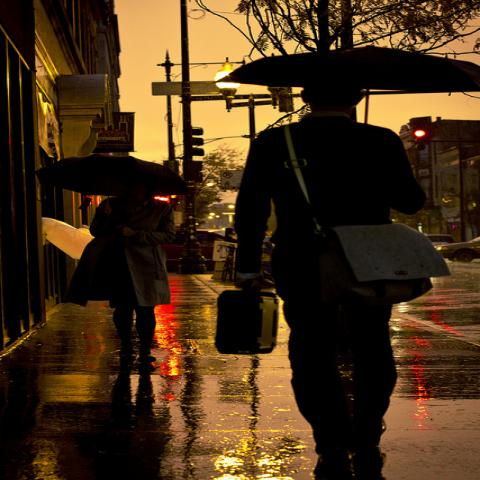car: (161, 226, 238, 264), (433, 235, 479, 265), (424, 233, 458, 246)
